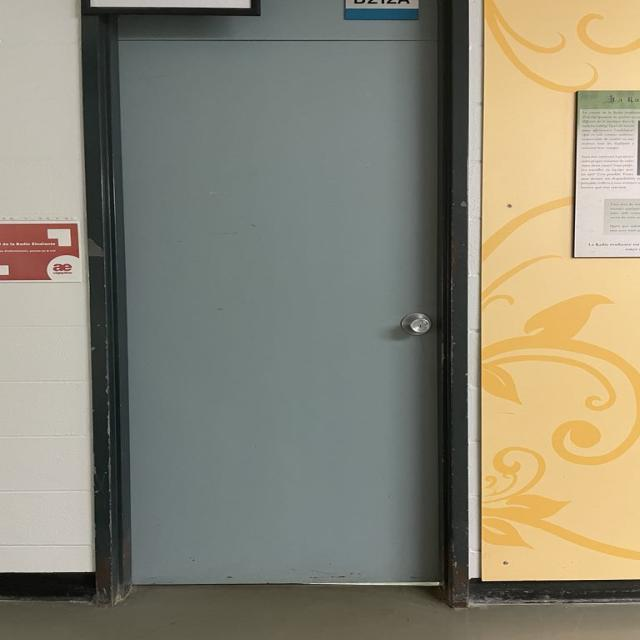door-knob: (402, 312, 432, 335)
